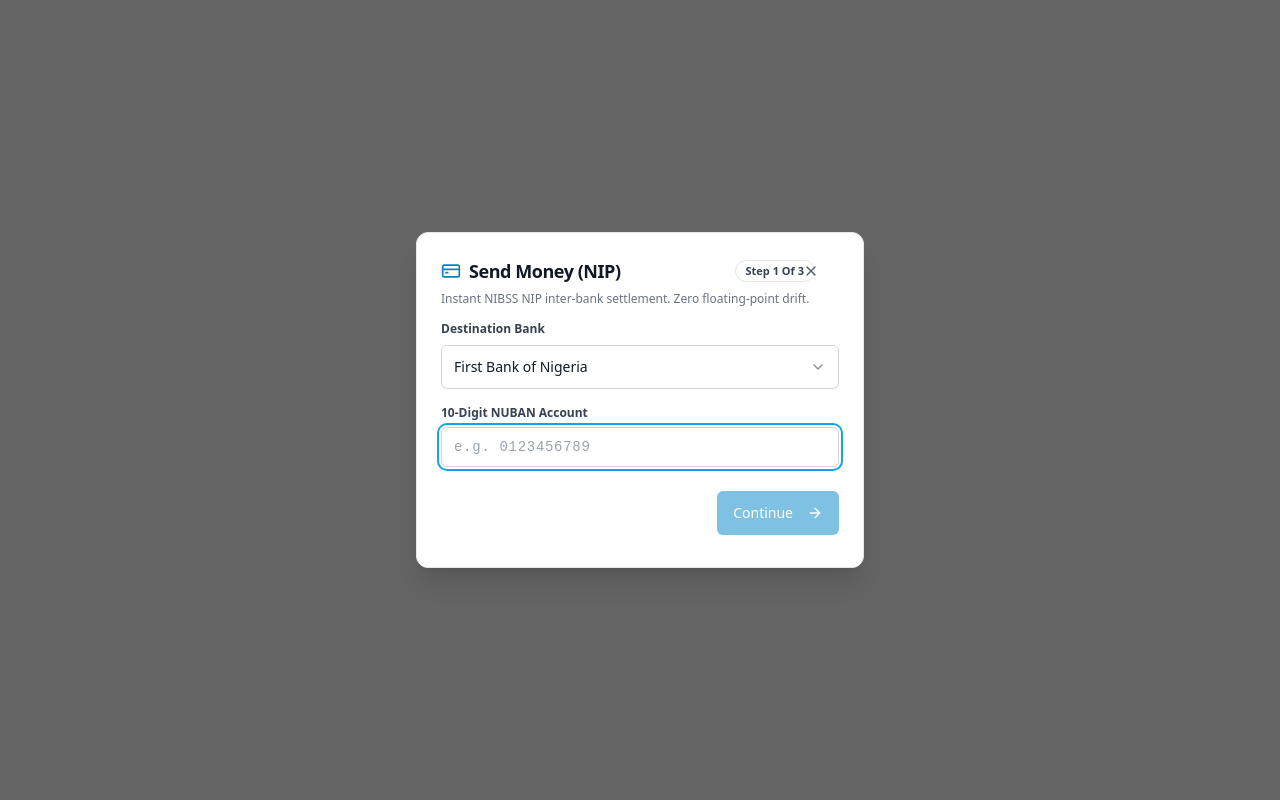
SendMoneyModal component › validates minimum amount and advances to Step 3 with locked Idempotency Key
Note: Fill Account
Type "0123456789" into the field with placeholder "e.g. 0123456789" at coordinates (640, 447), box [441,427,839,467]
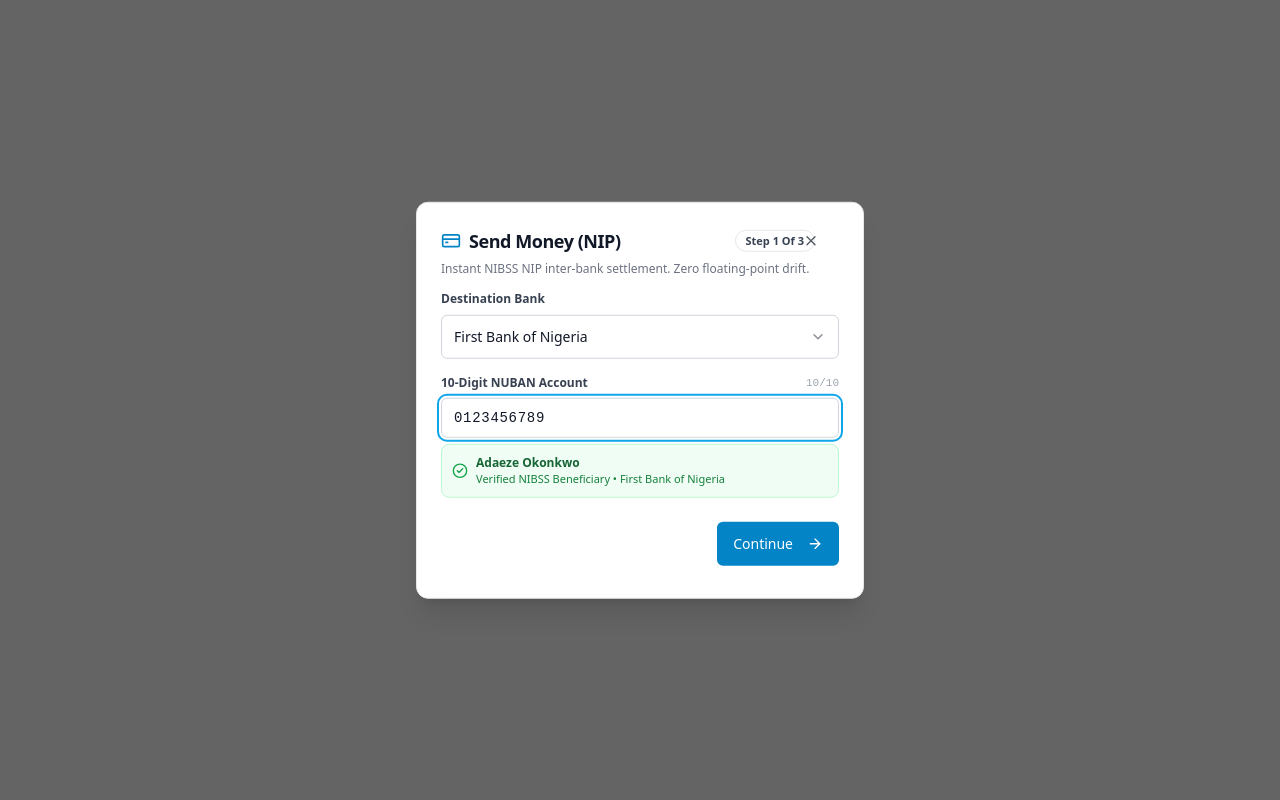
expect the text "Adaeze Okonkwo" is shown: met, box [476,453,580,470]
Click the button "Continue" at coordinates (778, 543), box [717,521,839,565]
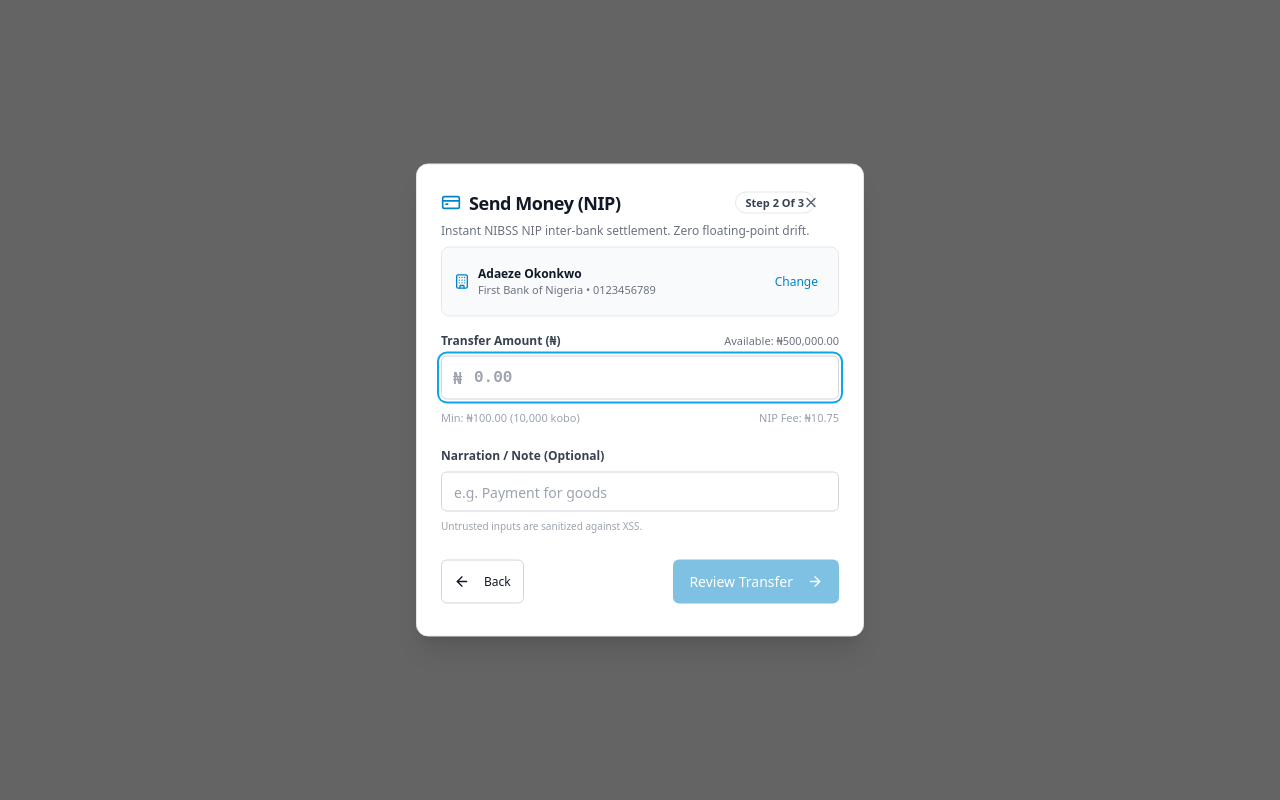
expect the text "Transfer Amount (₦)" is shown: met, box [441,333,560,349]
Type "50.00" into the field with placeholder "0.00" at coordinates (640, 377), box [441,355,839,399]
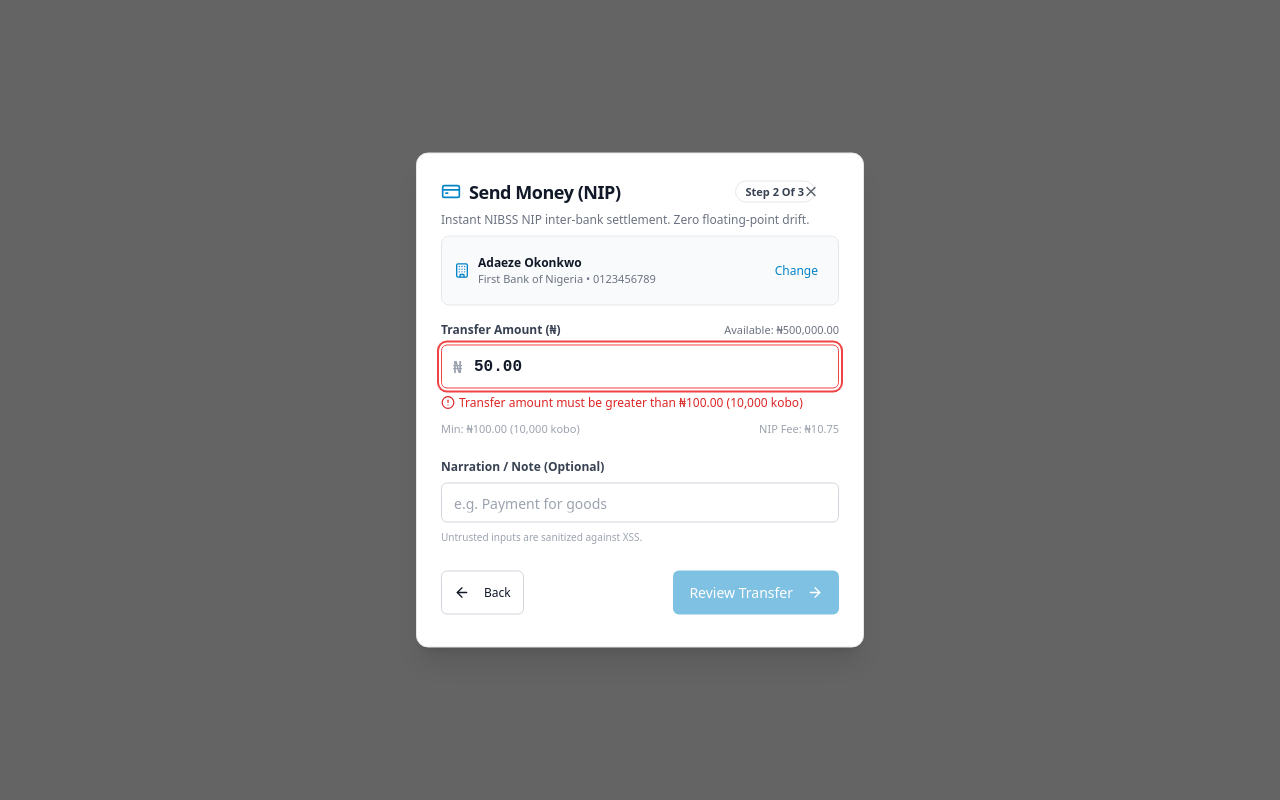
expect the text "Transfer amount must be greater than ₦100.00 (10,000 kobo)" is shown: met, box [441,394,839,410]
Note: Test valid amount: ₦15,000.00
Replace the text in the field with placeholder "0.00" with "15,000.00" at coordinates (640, 366), box [441,344,839,388]
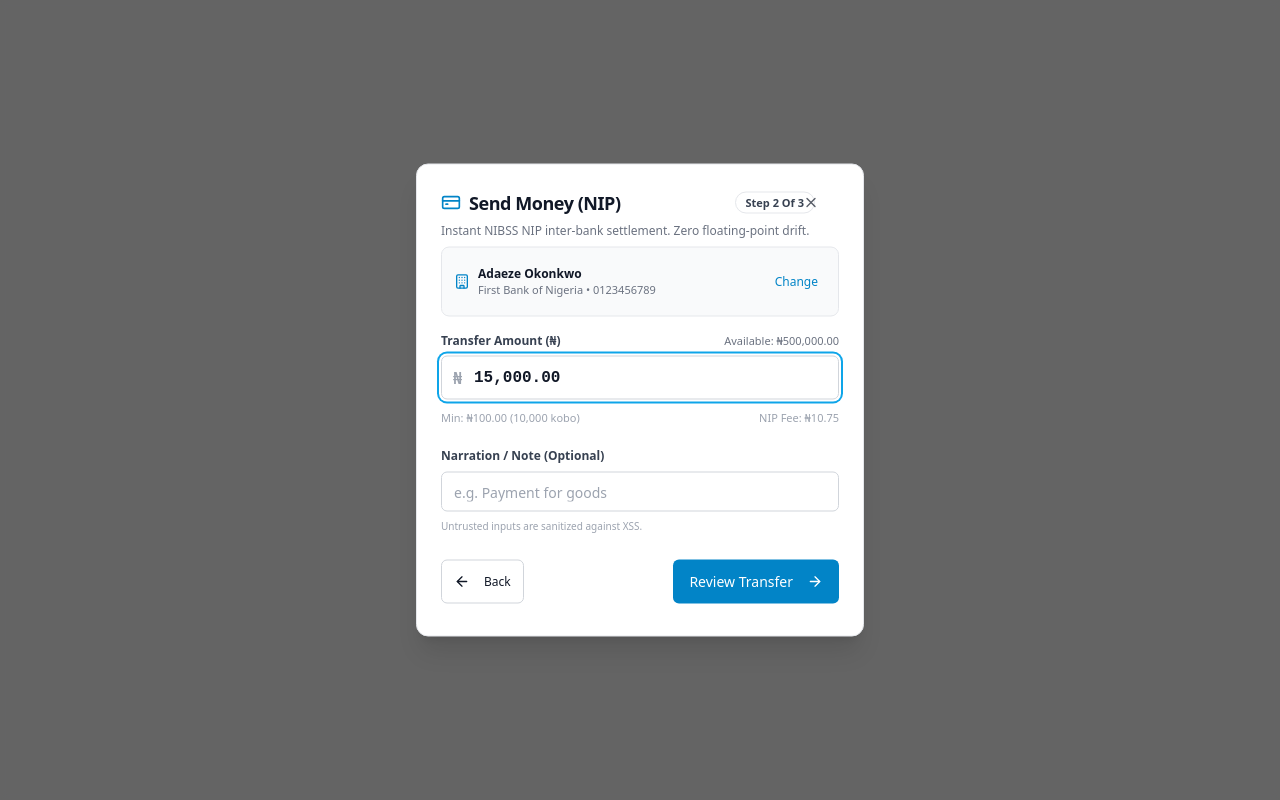
expect the text "must be greater than ₦100.00" is gone: met
expect the button "Review Transfer" is enabled: met
Click the button "Review Transfer" at coordinates (756, 582), box [673,560,839,604]
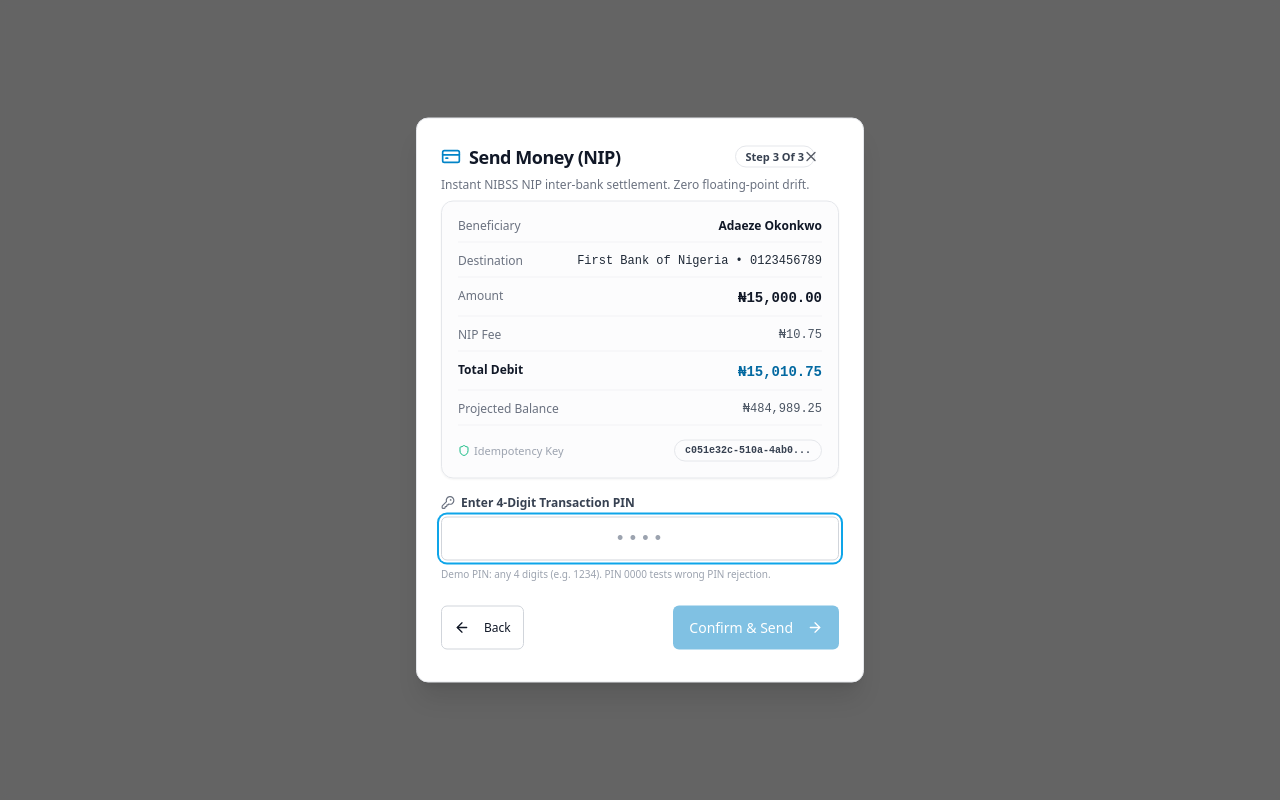
expect the text "Adaeze Okonkwo" is shown: met, box [718,218,822,234]
expect the text "Beneficiary" is shown: met, box [458,218,521,234]
expect the text "₦15,000.00" is shown: met, box [738,288,822,308]
